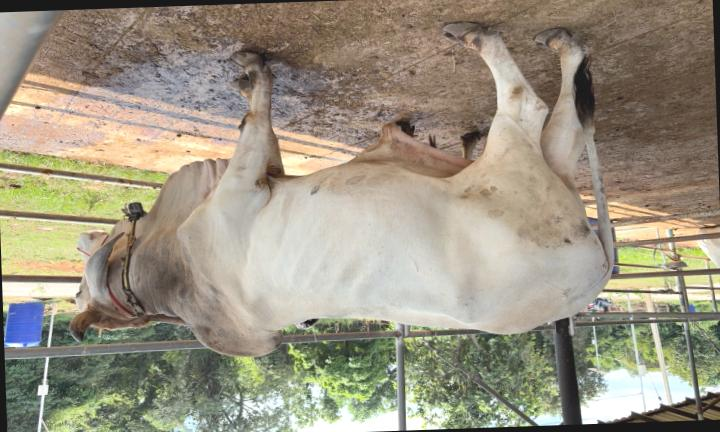Brahman: (70, 23, 614, 357)
